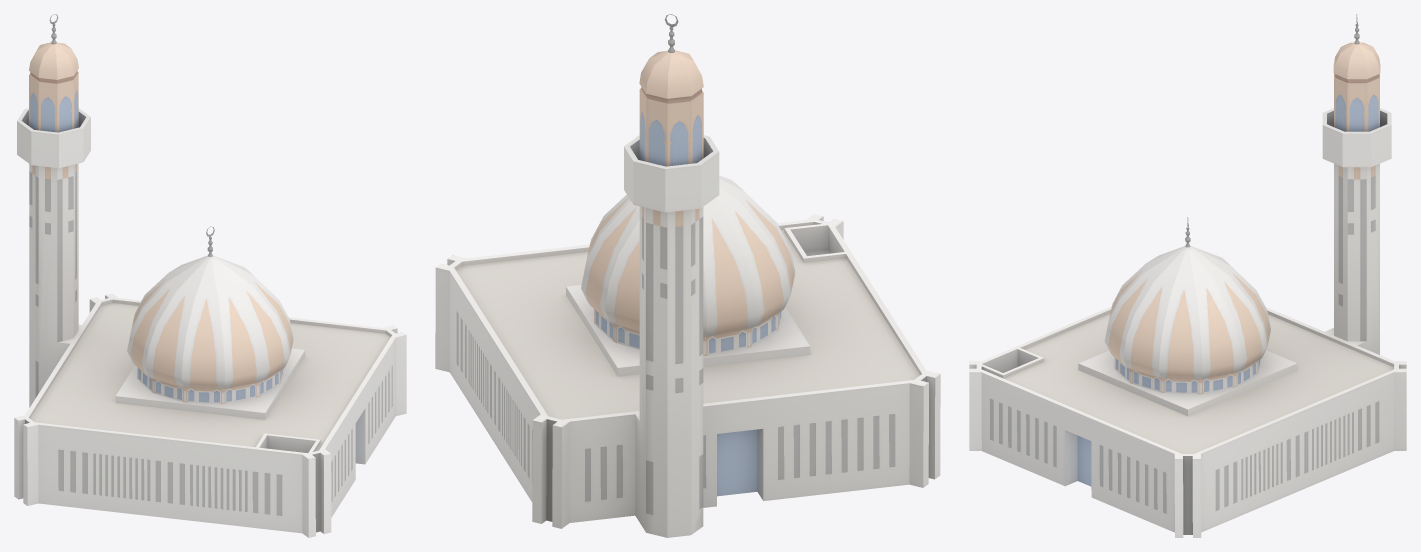
Rendered from kingfahdcomplex3.glb.
3 renders of one model, left to right at view 1: azimuth 30°, elevation 25°; view 2: azimuth 150°, elevation 25°; view 3: azimuth 270°, elevation 25°, orthographic. The views are drawn at different scales.
Visible parts, largest first — view 1: kingfahdcomplex3; view 2: kingfahdcomplex3; view 3: kingfahdcomplex3.
Part boxes in pixels (bbox=[...]): kingfahdcomplex3: bbox=[14, 14, 406, 537]; kingfahdcomplex3: bbox=[435, 14, 940, 537]; kingfahdcomplex3: bbox=[969, 14, 1406, 537].
Bounding box in the file's own units: 35.25 × 35.23 × 35.25.
Materials: 1 (1 with a texture image).
